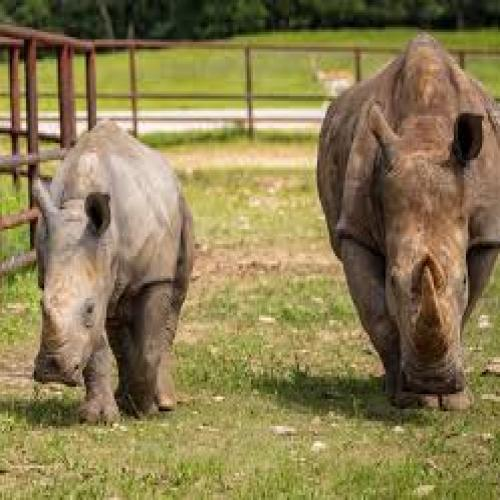rhino-endangered: (316, 32, 500, 413), (26, 117, 194, 428)
